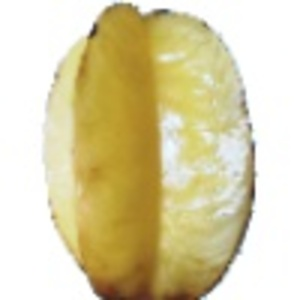carambola: (43, 1, 258, 300)
